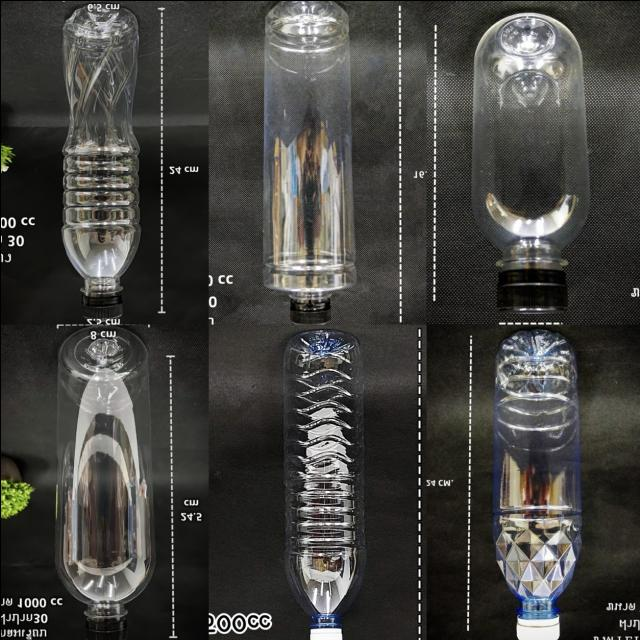plastik: (471, 12, 589, 312), (55, 326, 155, 640), (263, 0, 355, 322), (492, 328, 581, 640), (282, 330, 364, 640), (61, 3, 139, 317)
